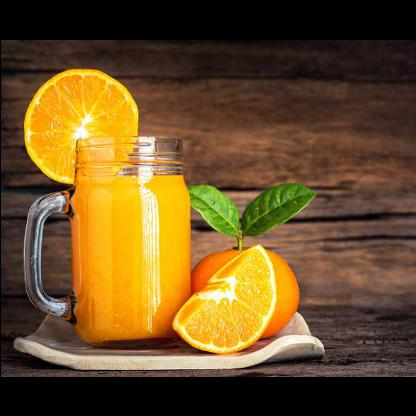orange juice: (69, 172, 191, 344)
